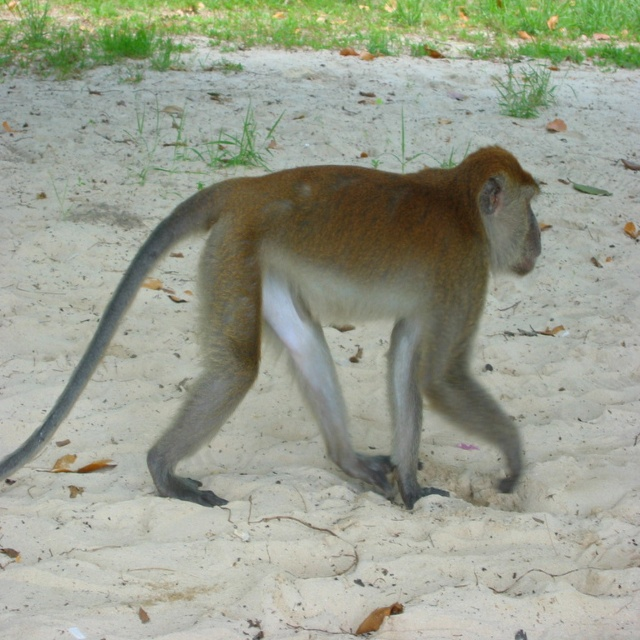Monkey: (76, 152, 546, 527)
